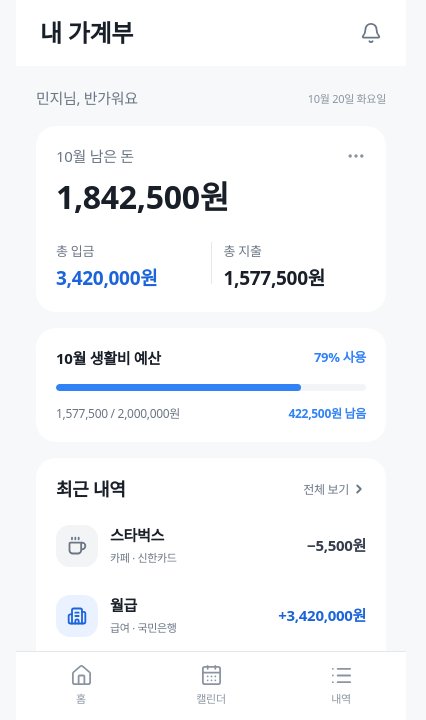
Test: App › 홈 화면에서 시작해 탭으로 캘린더와 내역으로 이동한다
The image size is (426, 720).
Expected: the heading "내 가계부" is shown, [40,16,133,50]
Click the link "캘린더" at (211, 685), box [196,664,226,706]
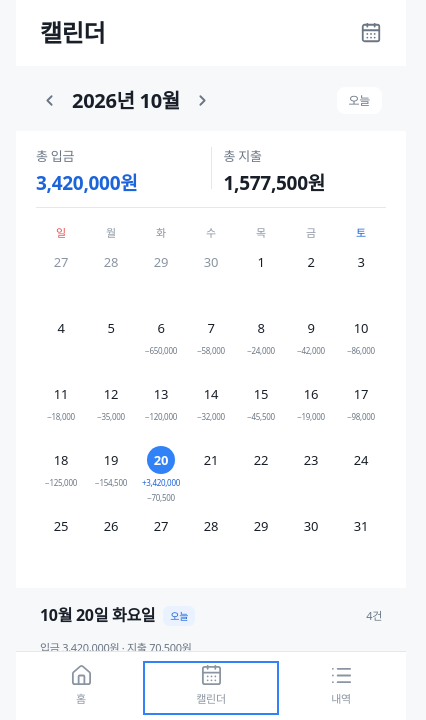
Expected: the heading "캘린더" is shown, [40,16,105,50]
Click the link "내역" at (341, 685), box [330,664,352,706]
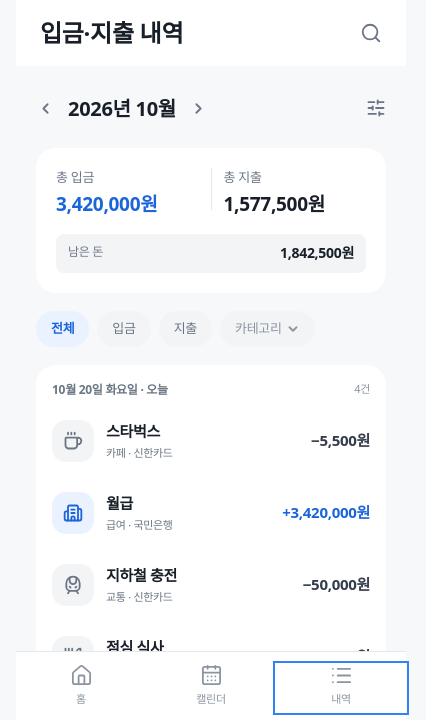
Expected: the heading "입금·지출 내역" is shown, [40,16,183,50]
